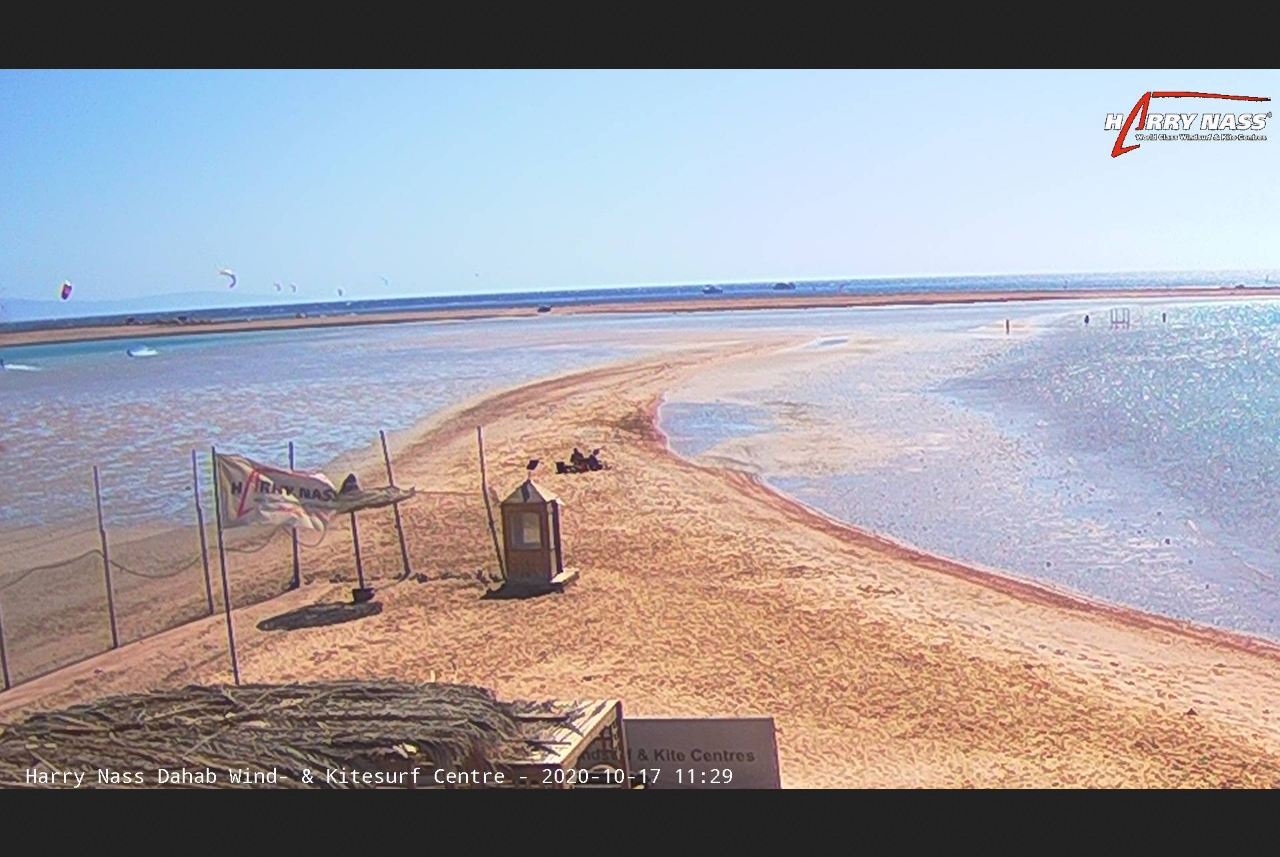yes: (215, 455, 347, 529)
